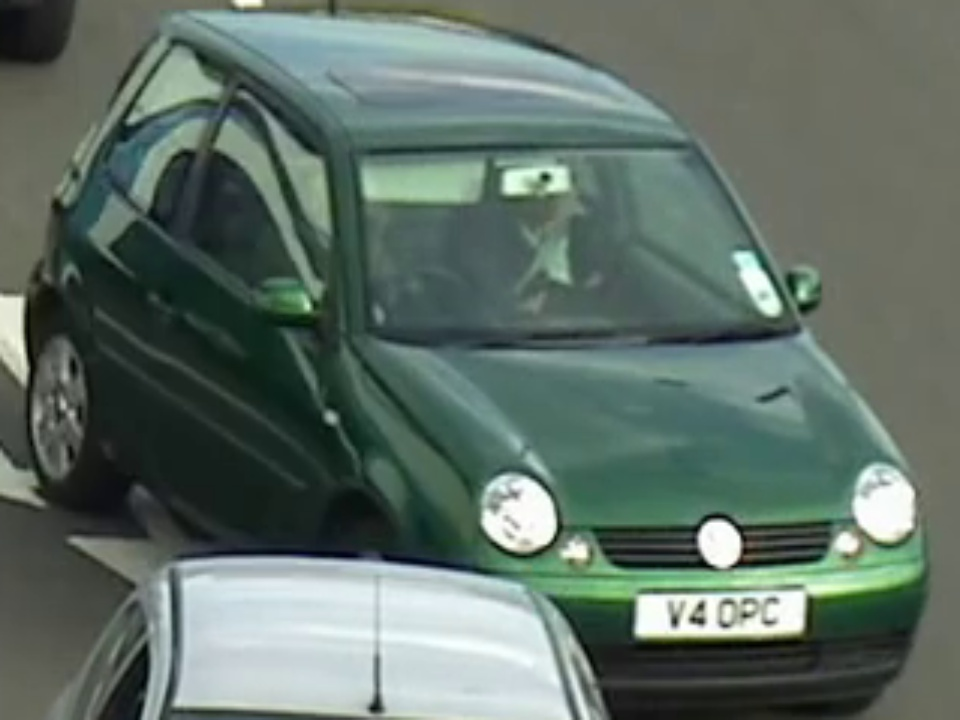ONE: (349, 147, 739, 341)
